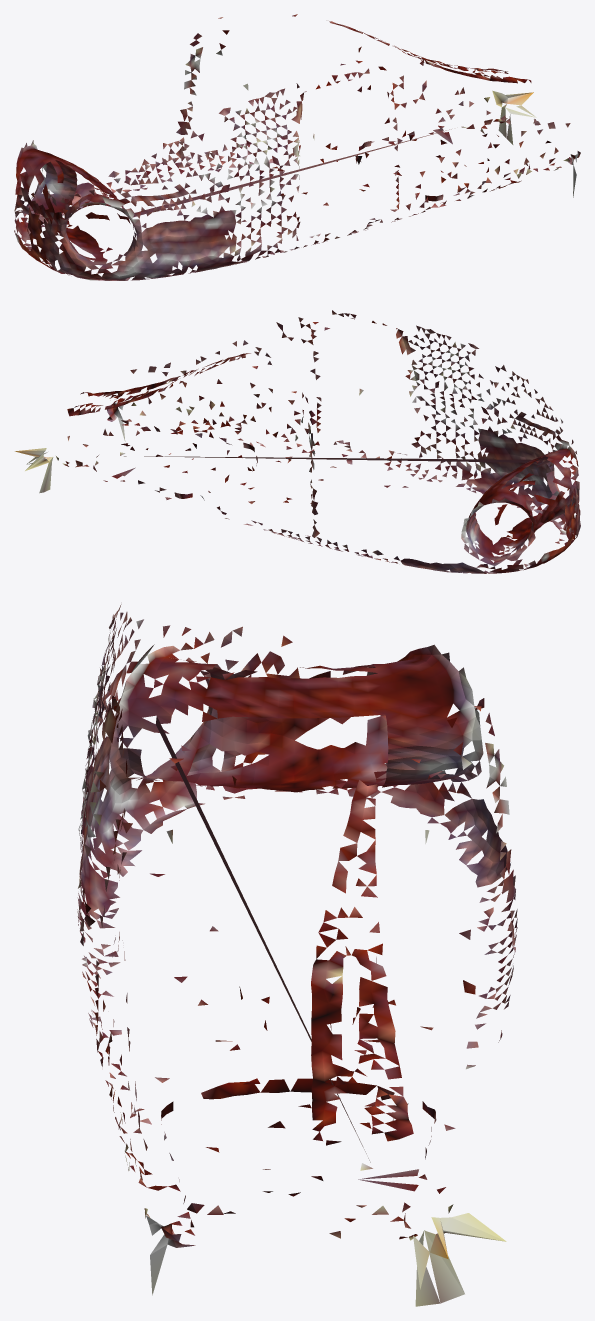
Rendered from whistle_final2000.obj.
3 renders of one model, top to bottom at view 1: azimuth 30°, elevation 25°; view 2: azimuth 150°, elevation 25°; view 3: azimuth 270°, elevation 25°, orthographic. The views are drawn at different scales.
Size of the model in its own units: 2.01 by 0.6692 by 0.7431.
